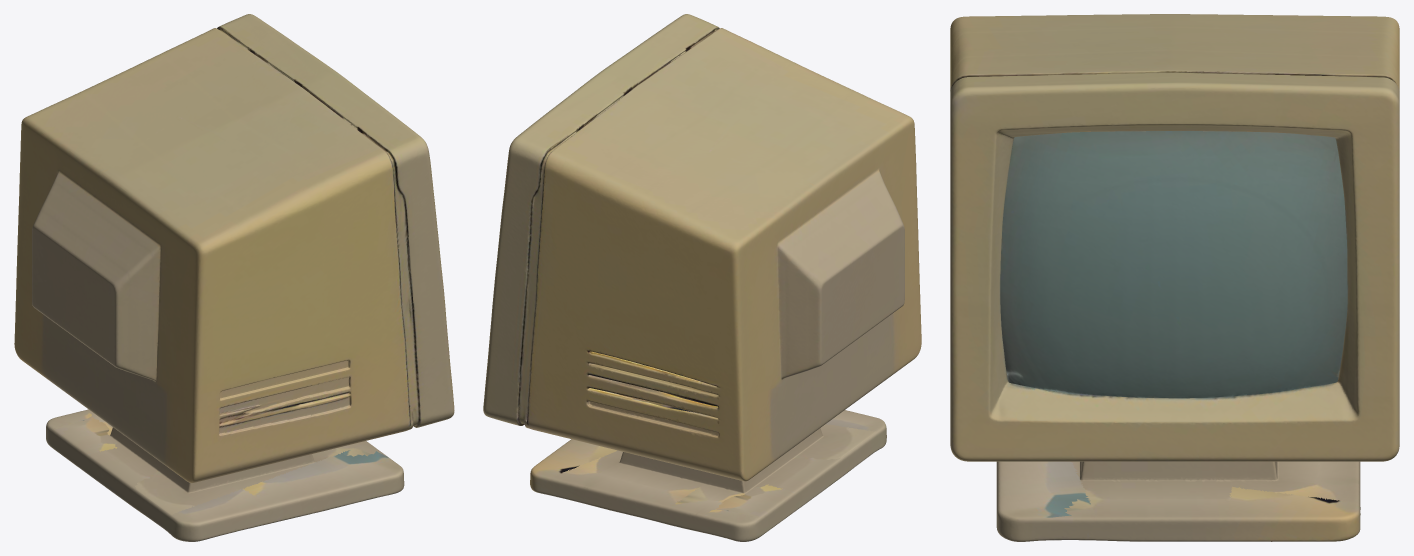
Rendered from monitor.glb.
3 renders of one model, left to right at view 1: azimuth 30°, elevation 25°; view 2: azimuth 150°, elevation 25°; view 3: azimuth 270°, elevation 25°, orthographic. The views are drawn at different scales.
Visible parts, largest first — view 1: tripo_node_6923e34e-a00a-42a1-ac7b-446539871f63; view 2: tripo_node_6923e34e-a00a-42a1-ac7b-446539871f63; view 3: tripo_node_6923e34e-a00a-42a1-ac7b-446539871f63.
Boxes of the visible parts, x1,y1,x2,y2 form: tripo_node_6923e34e-a00a-42a1-ac7b-446539871f63: [14, 14, 454, 541]; tripo_node_6923e34e-a00a-42a1-ac7b-446539871f63: [483, 14, 921, 541]; tripo_node_6923e34e-a00a-42a1-ac7b-446539871f63: [950, 14, 1399, 541].
Bounding box in the file's own units: 0.834 × 1 × 0.8908.
Materials: 1 (1 with a texture image).
